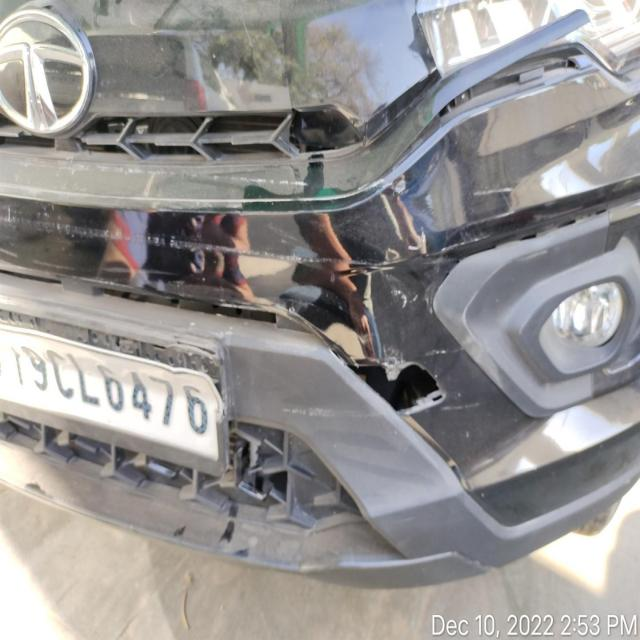damage: (0, 303, 222, 402), (433, 9, 598, 128), (92, 280, 315, 331), (342, 340, 450, 419)
